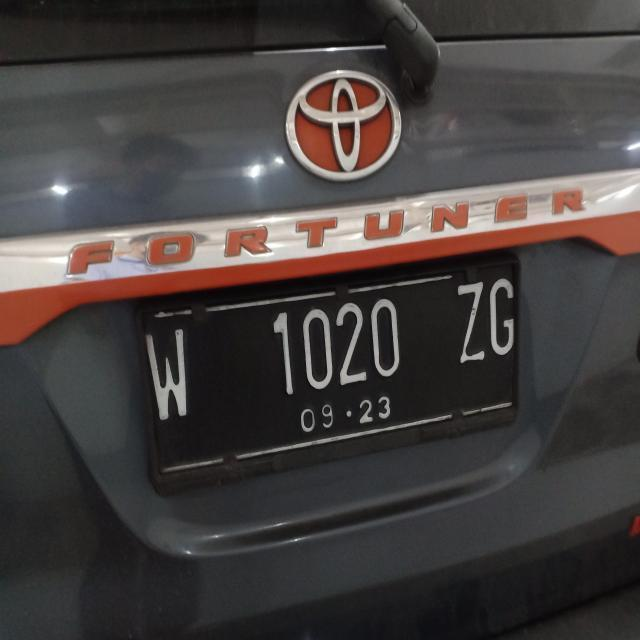0: (368, 299, 404, 381), (304, 309, 336, 398)
1: (263, 307, 301, 404)
2: (336, 298, 368, 390)
G: (489, 278, 518, 359)
W: (140, 321, 192, 424)
Z: (457, 278, 485, 368)
